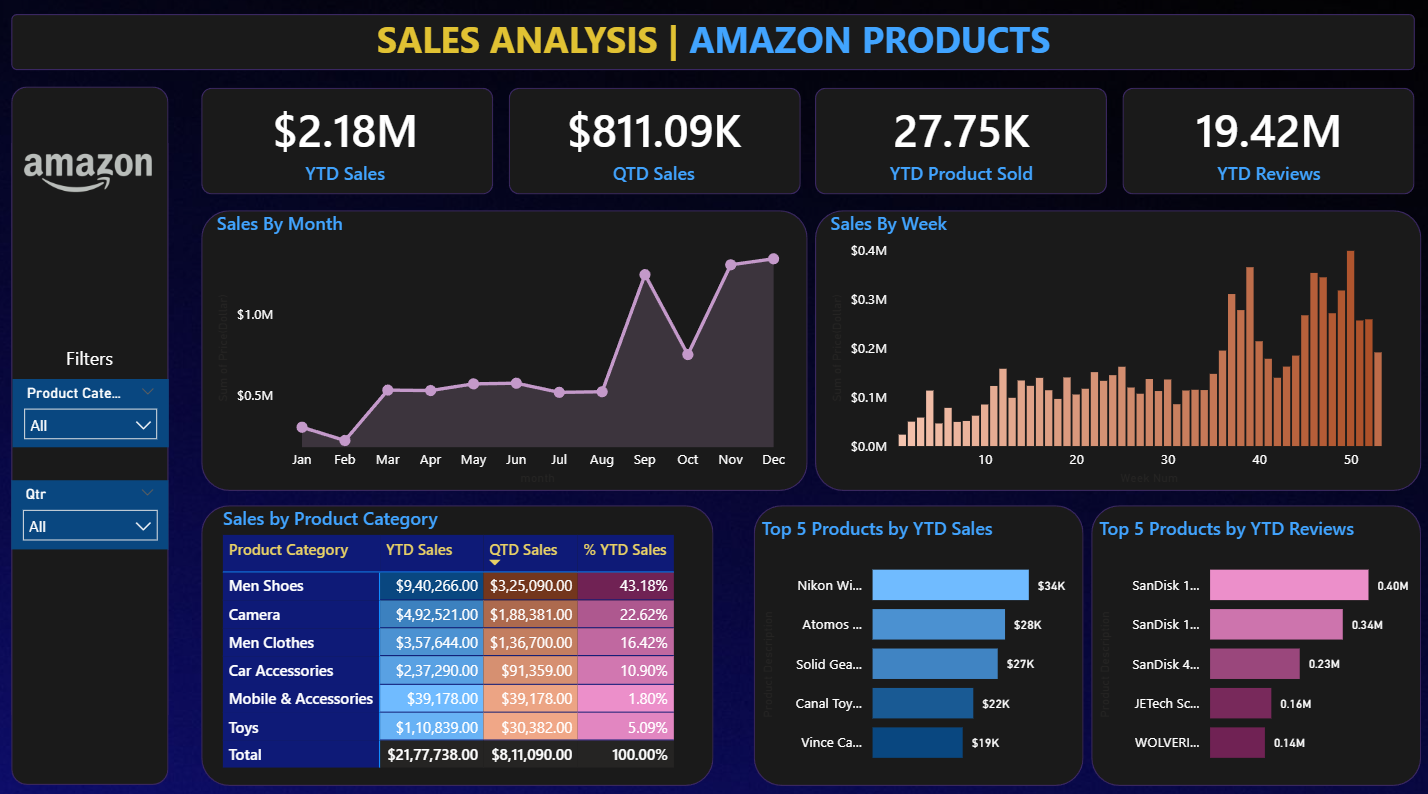

Layout of this report page (visuals, bound fields, positions):
{"tool":"powerbi","page":{"name":"Page 1","canvas":[1280,720],"ordinal":0},"visuals":[{"type":"shape","box":[14,17.4,1250,50],"z":0,"group":"g8"},{"type":"shape","box":[183.8,83.8,260,95],"z":0,"group":"g2"},{"type":"group","id":"g1","title":"Group 7","box":[14.4,82.2,140.6,622],"z":500},{"type":"textbox","box":[291.2,13.3,696.7,58.9],"z":1000,"group":"g8"},{"type":"card","fields":{"Values":["Amazon_Data.YTD Sales"]},"box":[202.6,83.8,218.8,95],"z":1000,"group":"g2"},{"type":"shape","box":[14.4,82.2,140,622],"z":2000,"group":"g1"},{"type":"group","id":"g2","title":"Group 1","box":[183.8,83.8,1080,95],"z":2000},{"type":"shape","box":[457.1,83.8,260,95],"z":2000,"group":"g2"},{"type":"shape","box":[730.5,83.8,260,95],"z":3000,"group":"g2"},{"type":"textbox","box":[42.5,308.8,83.8,33.8],"z":3000},{"type":"shape","box":[1003.8,83.8,260,95],"z":4000,"group":"g2"},{"type":"shape","box":[183.8,192.5,540,250],"z":4000,"group":"g7"},{"type":"group","id":"g3","title":"Group 2","box":[183.8,455,461.2,251.2],"z":4000},{"type":"card","fields":{"Values":["Amazon_Data.QTD Sales"]},"box":[477.6,83.8,218.8,95],"z":5000,"group":"g2"},{"type":"areaChart","title":"Sales By Month","fields":{"Category":["Date.month"],"Y":["Sum(Amazon_Data.Price(Dollar))"]},"box":[192.6,192.5,521.2,250],"z":5000,"group":"g7"},{"type":"group","id":"g4","title":"Group 3","box":[676.2,455,293.8,250],"z":5000},{"type":"card","fields":{"Values":["Amazon_Data.YTD Iteam Sold"]},"box":[751.3,83.8,218.8,95],"z":6000,"group":"g2"},{"type":"shape","box":[730,192.5,540,250],"z":6000,"group":"g6"},{"type":"group","id":"g5","title":"Group 4","box":[976.2,455,293.8,250],"z":6000},{"type":"card","fields":{"Values":["Amazon_Data.YTD Reviews"]},"box":[1025,83.8,218.8,95],"z":7000,"group":"g2"},{"type":"group","id":"g6","title":"Group 5","box":[730,192.5,540,250],"z":7000},{"type":"columnChart","title":"Sales By Week","fields":{"Y":["Sum(Amazon_Data.Price(Dollar))"],"Category":["Date Table.Week Num"]},"box":[738.8,192.5,521.2,250],"z":7000,"group":"g6"},{"type":"group","id":"g7","title":"Group 6","box":[183.8,192.5,540,250],"z":8000},{"type":"shape","box":[183.8,455,456.2,250],"z":8000,"group":"g3"},{"type":"pivotTable","title":"Sales by Product Category","fields":{"Rows":["Amazon_Data.Product Category"],"Values":["Amazon_Data.YTD Sales1","Amazon_Data.QTD Sales","Amazon_Data.YTD Sales"]},"box":[198.8,455,446.2,251.2],"z":9000,"group":"g3"},{"type":"group","id":"g8","title":"Group 8","box":[14,13.3,1250,58.9],"z":9001},{"type":"shape","box":[676.2,455,293.8,250],"z":10000,"group":"g4"},{"type":"shape","box":[976.2,455,293.8,250],"z":11000,"group":"g5"},{"type":"clusteredBarChart","title":"Top 5 Products by YTD Sales","fields":{"Y":["Amazon_Data.YTD Sales"],"Category":["Amazon_Data.Product Description"]},"box":[678.7,463.8,291.2,236.2],"z":12000,"group":"g4"},{"type":"clusteredBarChart","title":"Top 5 Products by YTD Reviews","fields":{"Category":["Amazon_Data.Product Description"],"Y":["Amazon_Data.YTD Reviews"]},"box":[978.7,463.8,291.2,236.2],"z":13000,"group":"g5"},{"type":"slicer","fields":{"Values":["Amazon_Data.Product Category"]},"box":[15.4,342.7,139.1,60.9],"z":14000,"group":"g1"},{"type":"slicer","fields":{"Values":["Date Table.Qtd"]},"box":[15,432.5,140,61.2],"z":15000,"group":"g1"},{"type":"image","box":[15,93.7,140,137.5],"z":16000,"group":"g1"}]}

Visuals, with their boxes in screenshot pixels (x1, y1, x2, y2), scaled from the page's 1280x720 canvas onto the 1428x794 screenshot:
shape: (left=16, top=19, right=1410, bottom=74)
shape: (left=205, top=92, right=495, bottom=197)
"Group 7" group: (left=16, top=91, right=173, bottom=777)
textbox: (left=325, top=15, right=1102, bottom=80)
card - Amazon_Data.YTD Sales: (left=226, top=92, right=470, bottom=197)
shape: (left=16, top=91, right=172, bottom=777)
"Group 1" group: (left=205, top=92, right=1410, bottom=197)
shape: (left=510, top=92, right=800, bottom=197)
shape: (left=815, top=92, right=1105, bottom=197)
textbox: (left=47, top=341, right=141, bottom=378)
shape: (left=1120, top=92, right=1410, bottom=197)
shape: (left=205, top=212, right=807, bottom=488)
"Group 2" group: (left=205, top=502, right=720, bottom=779)
card - Amazon_Data.QTD Sales: (left=533, top=92, right=777, bottom=197)
"Sales By Month" areaChart: (left=215, top=212, right=796, bottom=488)
"Group 3" group: (left=754, top=502, right=1082, bottom=777)
card - Amazon_Data.YTD Iteam Sold: (left=838, top=92, right=1082, bottom=197)
shape: (left=814, top=212, right=1417, bottom=488)
"Group 4" group: (left=1089, top=502, right=1417, bottom=777)
card - Amazon_Data.YTD Reviews: (left=1144, top=92, right=1388, bottom=197)
"Group 5" group: (left=814, top=212, right=1417, bottom=488)
"Sales By Week" columnChart: (left=824, top=212, right=1406, bottom=488)
"Group 6" group: (left=205, top=212, right=807, bottom=488)
shape: (left=205, top=502, right=714, bottom=777)
"Sales by Product Category" pivotTable: (left=222, top=502, right=720, bottom=779)
"Group 8" group: (left=16, top=15, right=1410, bottom=80)
shape: (left=754, top=502, right=1082, bottom=777)
shape: (left=1089, top=502, right=1417, bottom=777)
"Top 5 Products by YTD Sales" clusteredBarChart: (left=757, top=511, right=1082, bottom=772)
"Top 5 Products by YTD Reviews" clusteredBarChart: (left=1092, top=511, right=1417, bottom=772)
slicer - Amazon_Data.Product Category: (left=17, top=378, right=172, bottom=445)
slicer - Date Table.Qtd: (left=17, top=477, right=173, bottom=544)
image: (left=17, top=103, right=173, bottom=255)
